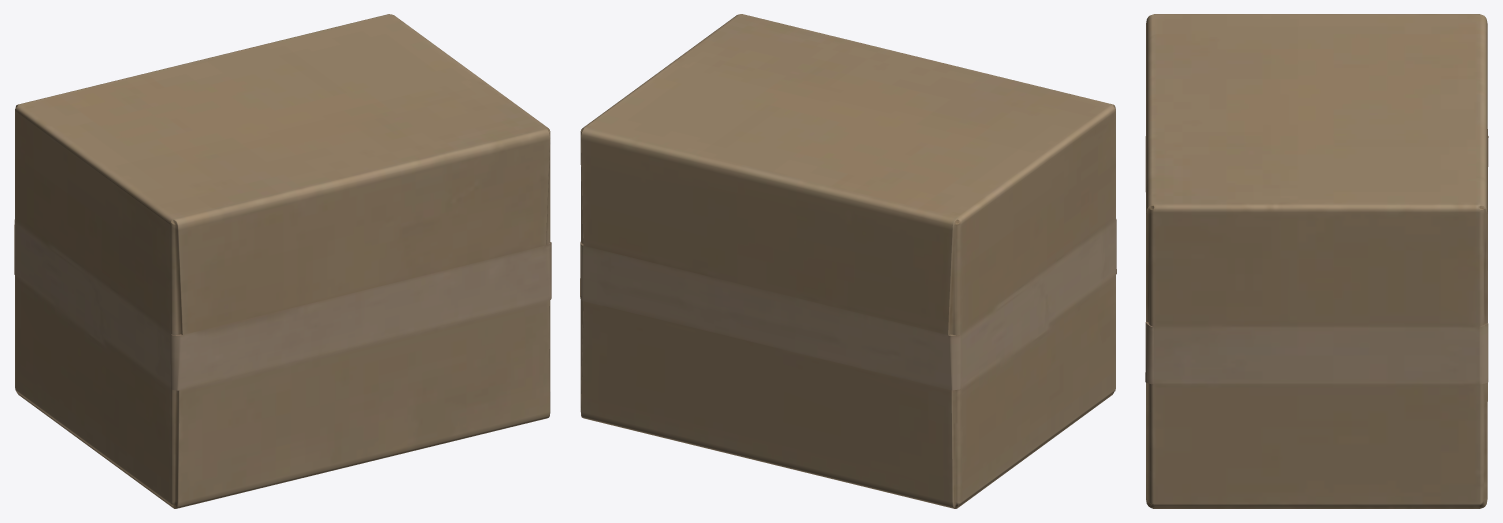
3 views of the same model, side by side, from view 1: azimuth 30°, elevation 25°; view 2: azimuth 150°, elevation 25°; view 3: azimuth 270°, elevation 25° (orthographic). The views are drawn at different scales.
Visible parts, largest first — view 1: box_a_mesh; view 2: box_a_mesh; view 3: box_a_mesh.
Part boxes in pixels (x1,y1,x2,y2): box_a_mesh: (14, 14, 551, 508); box_a_mesh: (580, 14, 1116, 508); box_a_mesh: (1145, 14, 1488, 508).
Size of the model in its own units: 0.6994 by 0.5099 by 0.5211.
1 material, 1 textured.
